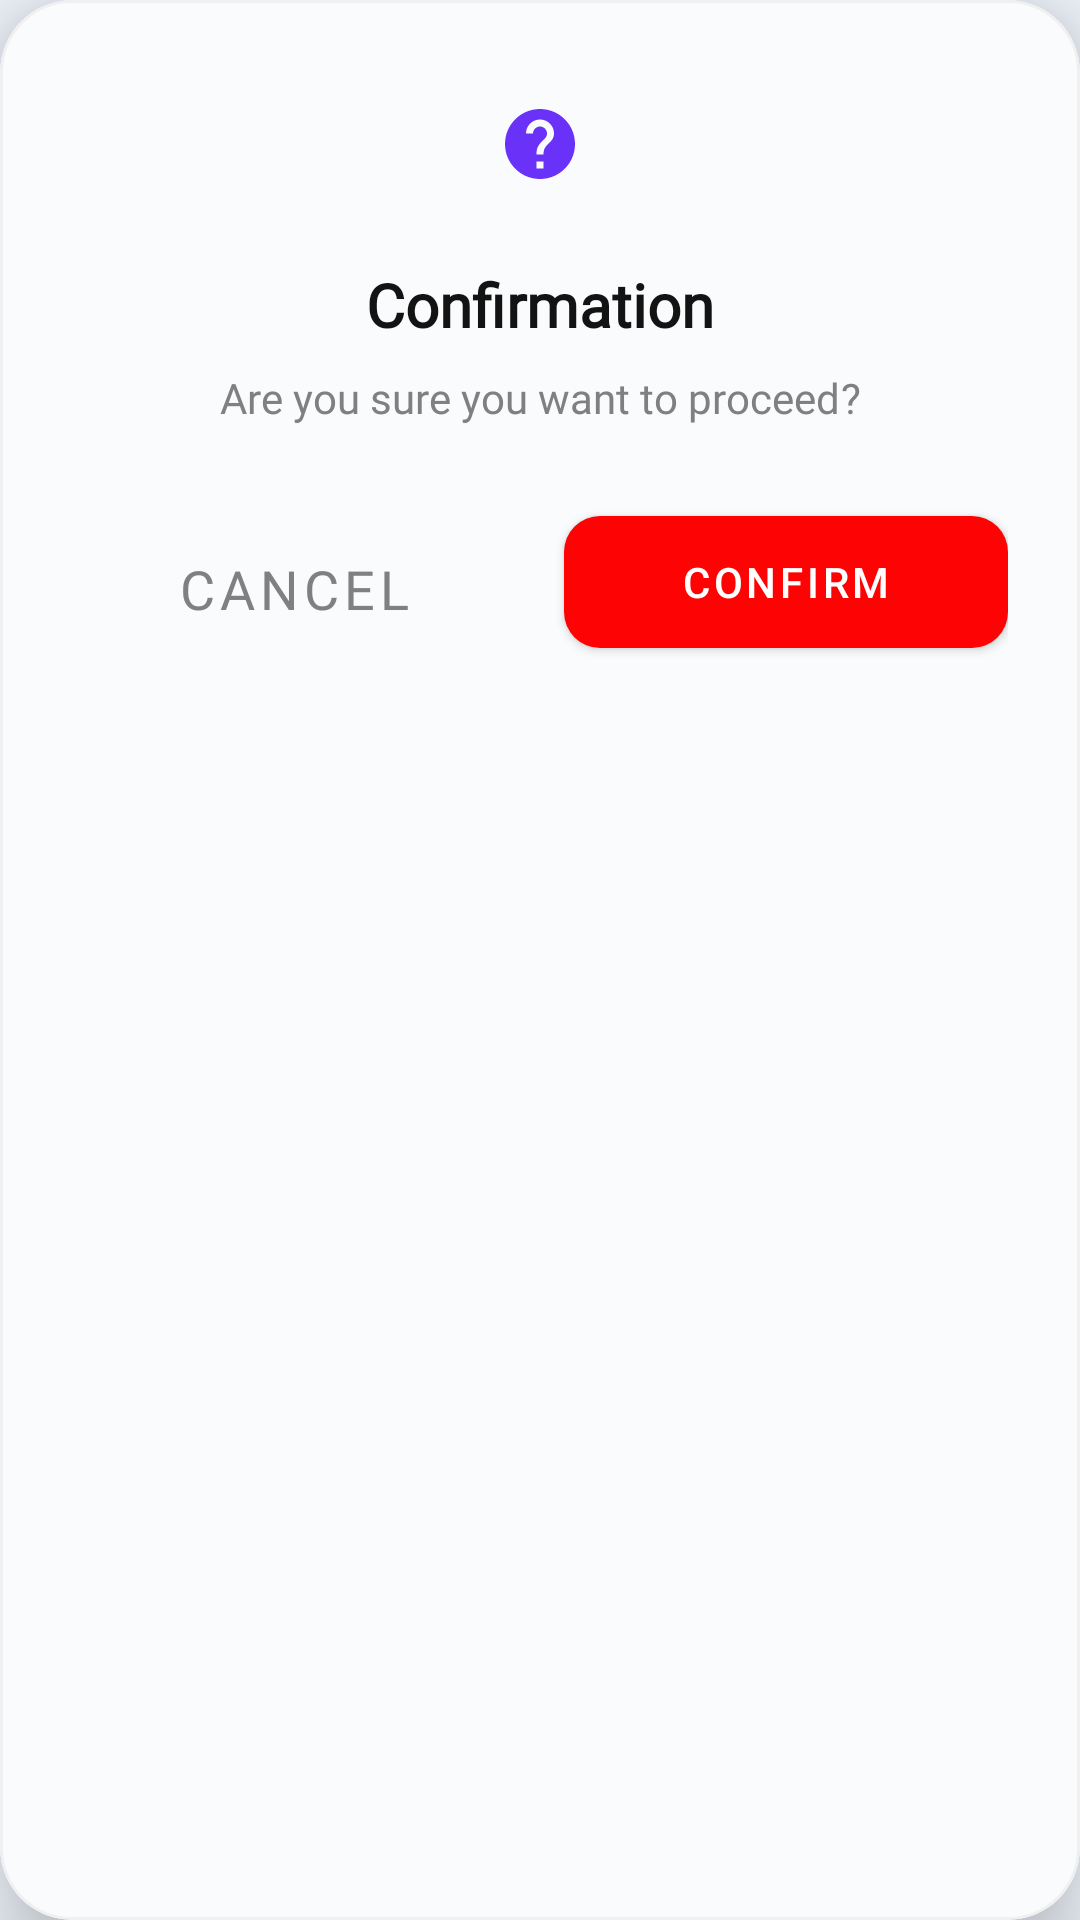

Where icons sit on this 1080px×1920px app screen, as BBox(x1, y1, x2, y2):
help: BBox(505, 109, 575, 179)
